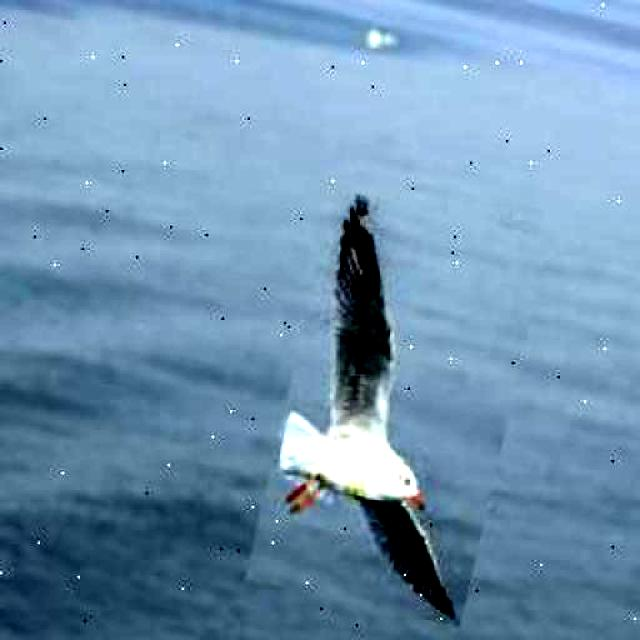airplane: (245, 188, 549, 628)
